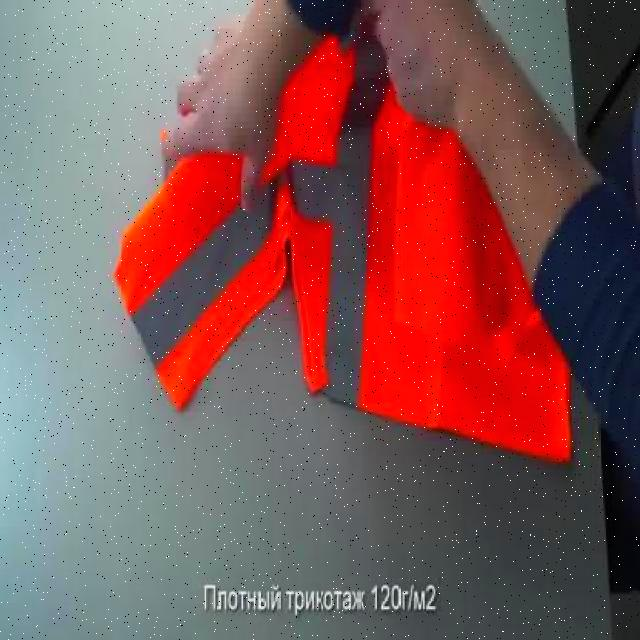Mask: (108, 26, 578, 466)
